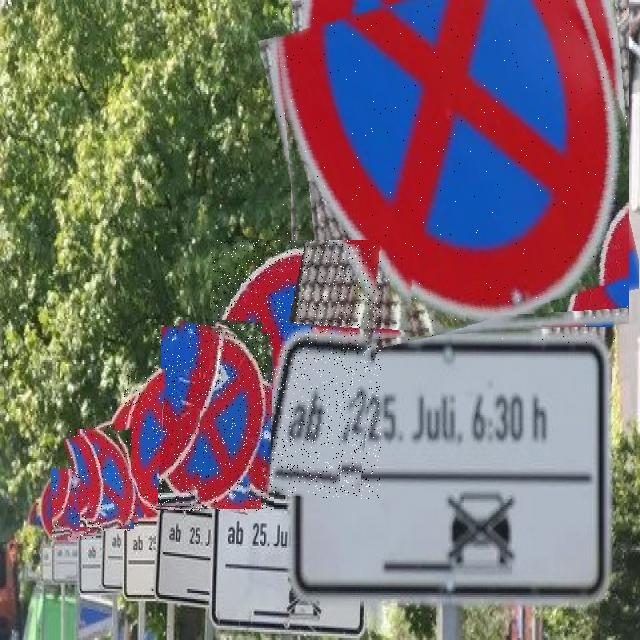no stopping: (274, 0, 629, 343), (210, 240, 381, 499), (154, 326, 274, 512), (124, 371, 201, 510), (70, 426, 138, 531), (52, 470, 96, 540)
